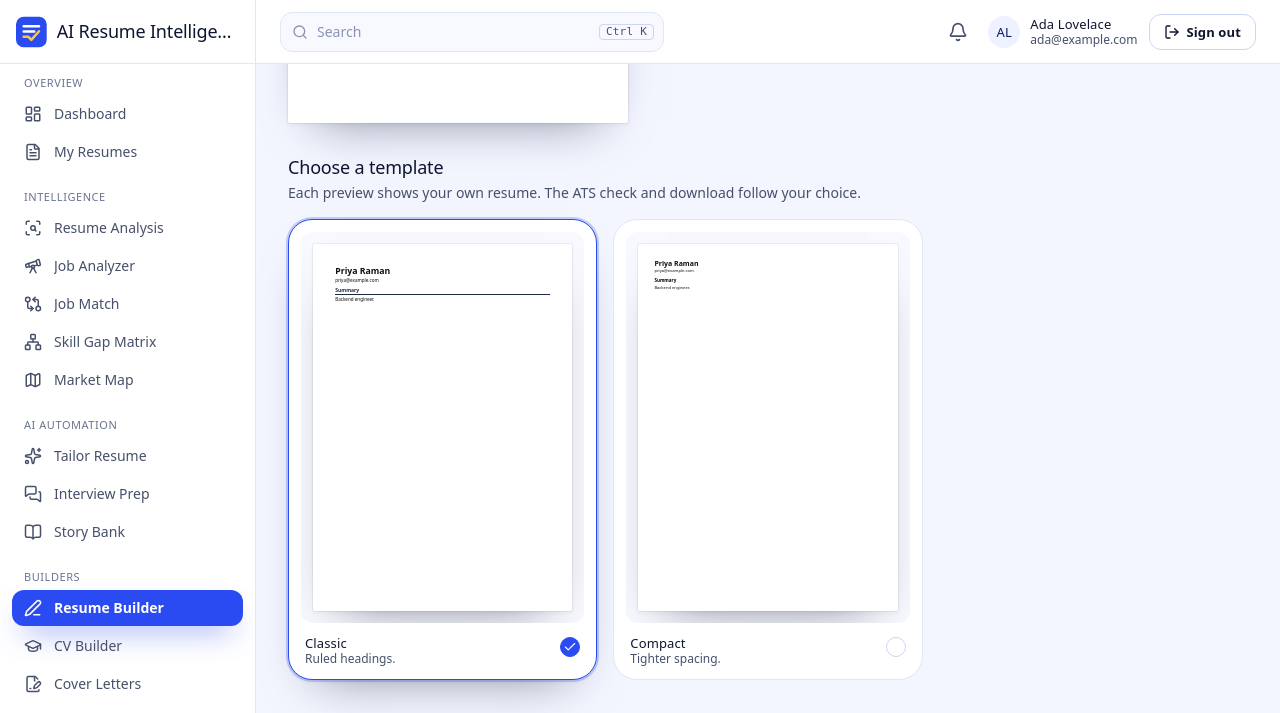
Scenario: Resume Builder › shows the ATS report and a download link for the chosen resume and template
(page scrolled)
Check: the picture named "Compact template preview" shows "Priya Raman", box top-left (654, 259), bottom-right (698, 268)
Click the radio button labelled "Compact" at (768, 449), box top-left (613, 219), bottom-right (923, 680)
(page scrolled)
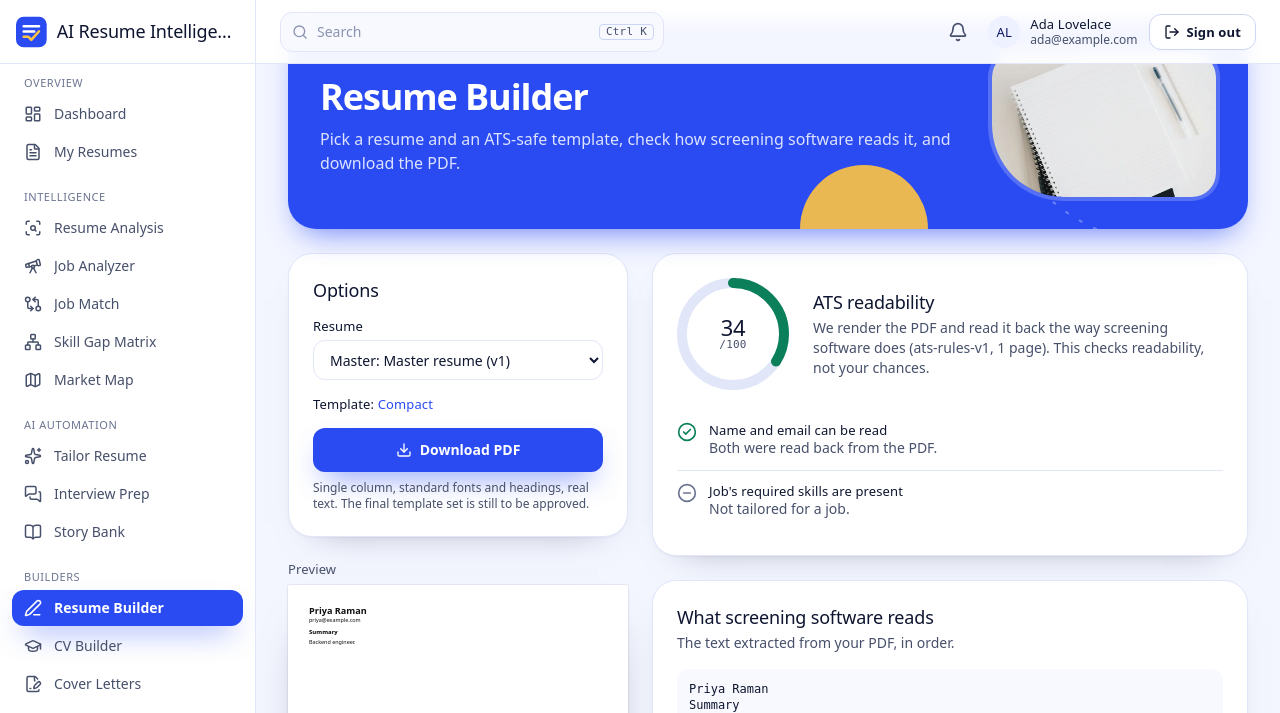
Check: the picture named "ATS checks: 90 out of 100" is shown, box top-left (677, 278), bottom-right (789, 390)
Select "Tailored: Acme backend (v1)" in the dropdown labelled "Resume" at (458, 360), box top-left (313, 340), bottom-right (603, 380)
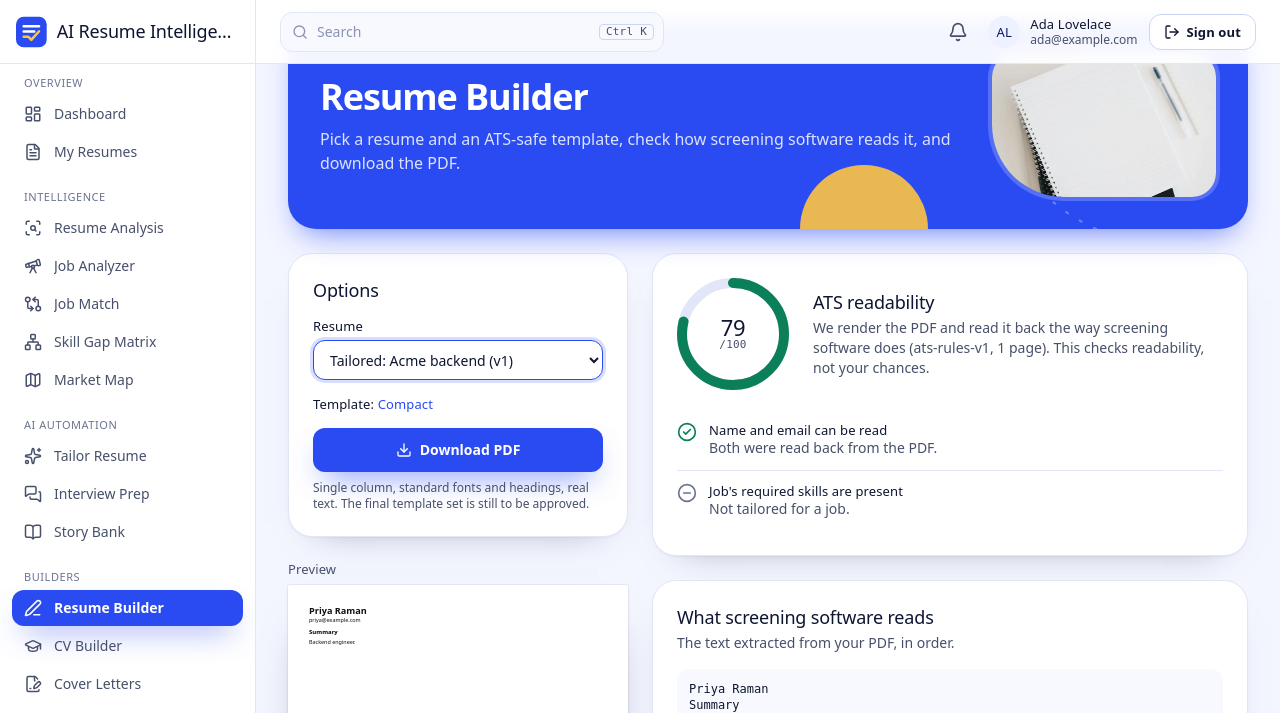
Check: the picture named "ATS checks: 80 out of 100" is shown, box top-left (677, 278), bottom-right (789, 390)
